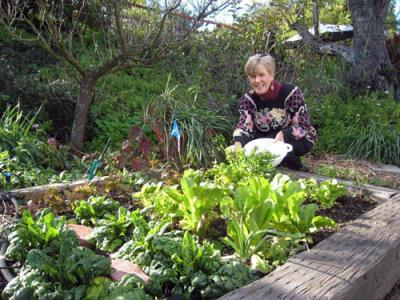person: (233, 54, 317, 172)
